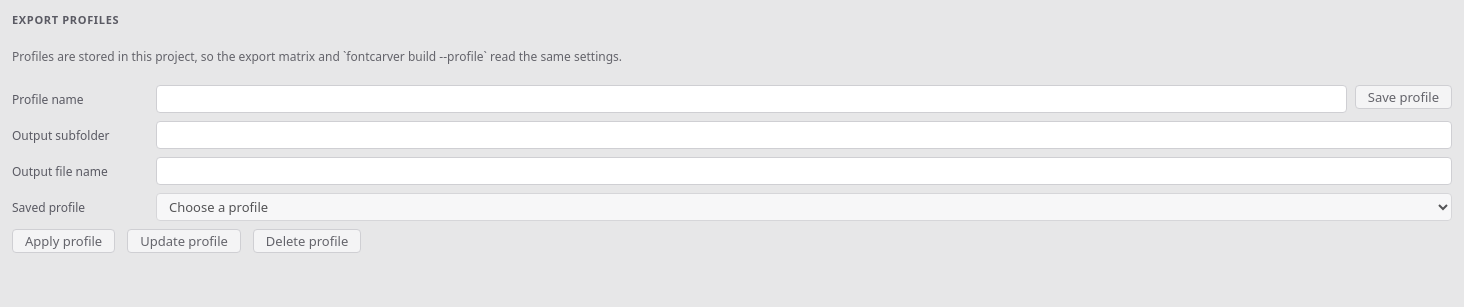
Test case: ExportProfiles › shows a rejected write and keeps the selection usable
Type "Web" into the field labelled "Profile name". click: (751, 99)
box: [156,85,1347,113]
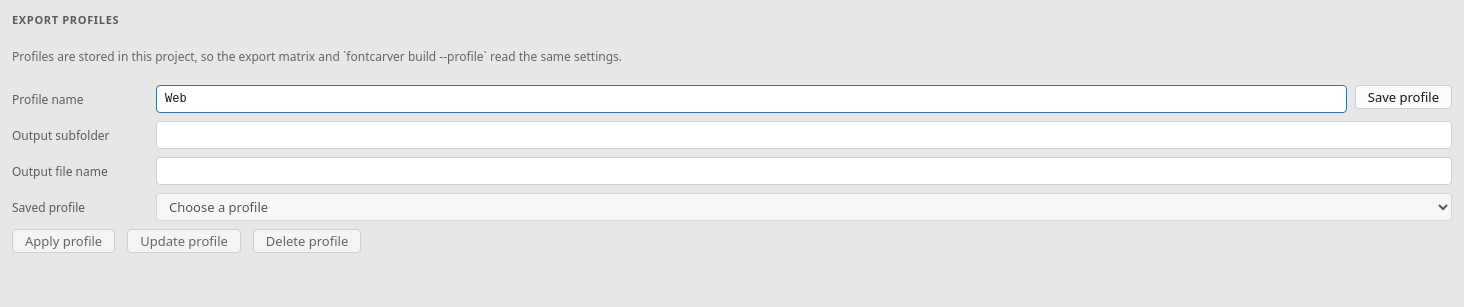
Click the button "Save profile". click: click(1403, 97)
box: [1355,85,1452,109]
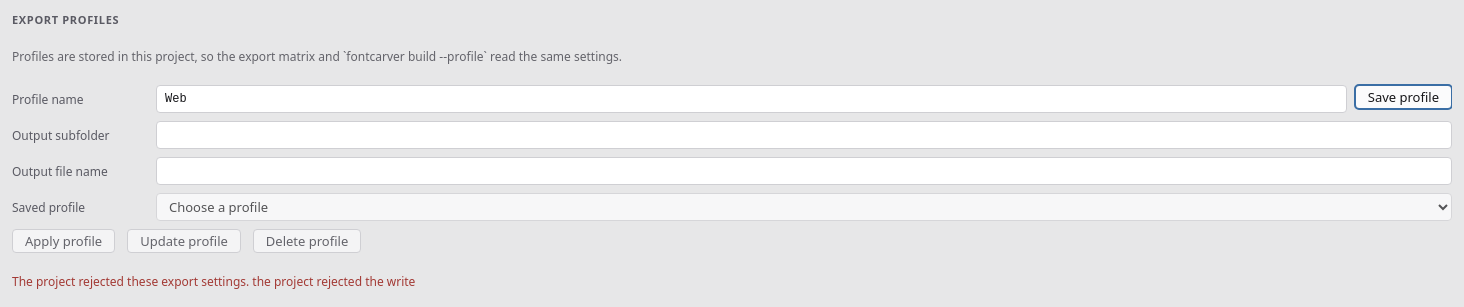
Now the message shows "The project rejected these export settings.", box [12,273,249,290]
